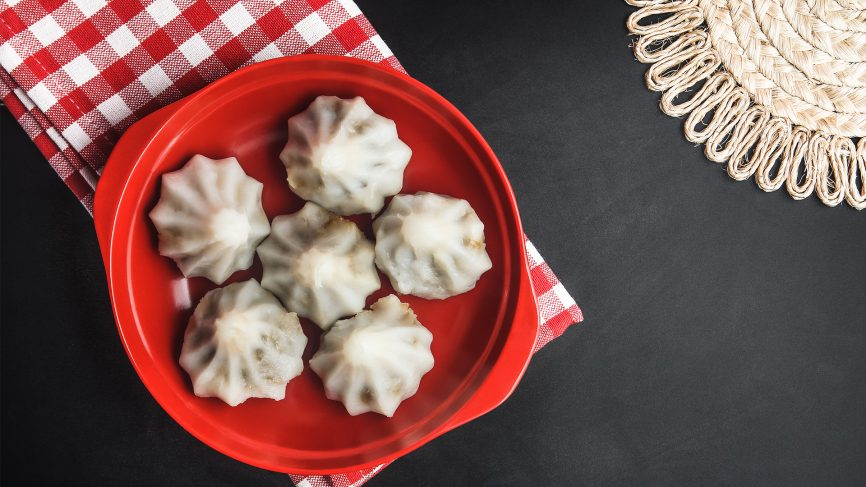modak: (283, 86, 411, 222), (193, 279, 308, 404), (373, 190, 493, 299), (312, 307, 434, 410), (161, 161, 257, 287), (263, 217, 377, 312)
